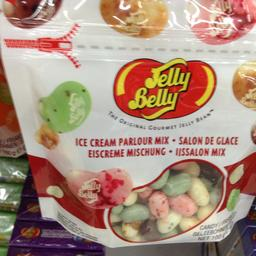candy: (0, 0, 253, 241)
